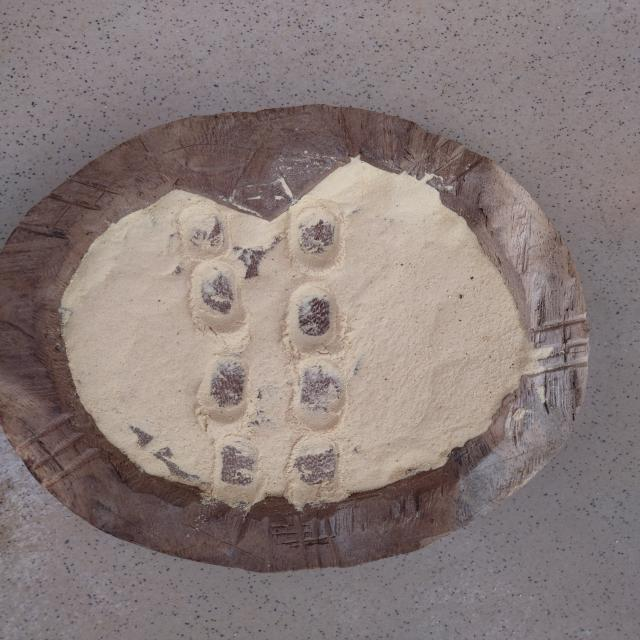single: (183, 259, 251, 347), (280, 275, 348, 359), (288, 352, 350, 432), (197, 350, 257, 430), (208, 429, 268, 502), (286, 432, 344, 502), (289, 206, 345, 274), (176, 202, 236, 264)
